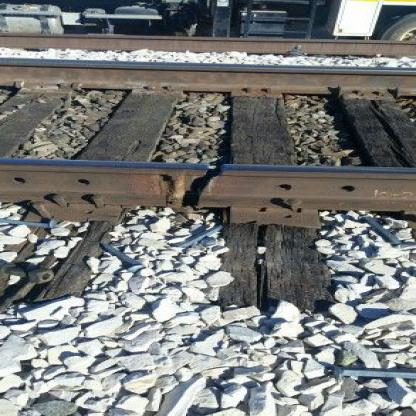Defective: (57, 148, 363, 220)
